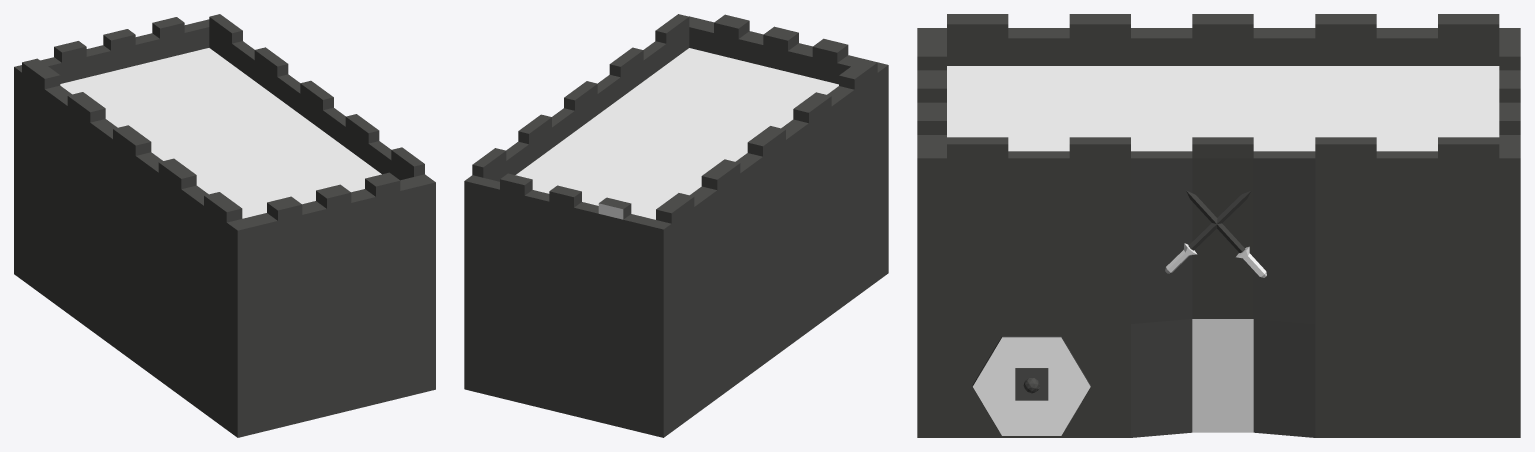
The model's file is Baracks.fbx.
3 renders of one model, left to right at view 1: azimuth 30°, elevation 25°; view 2: azimuth 150°, elevation 25°; view 3: azimuth 270°, elevation 25°, orthographic. The views are drawn at different scales.
Visible parts, largest first — view 1: Cube; view 2: Cube; view 3: Cube.
Boxes of the visible parts, x1,y1,x2,y2 form: Cube: [14, 14, 435, 437]; Cube: [464, 14, 888, 437]; Cube: [917, 14, 1520, 437].
Bounding box in the file's own units: 215 × 210 × 391.
